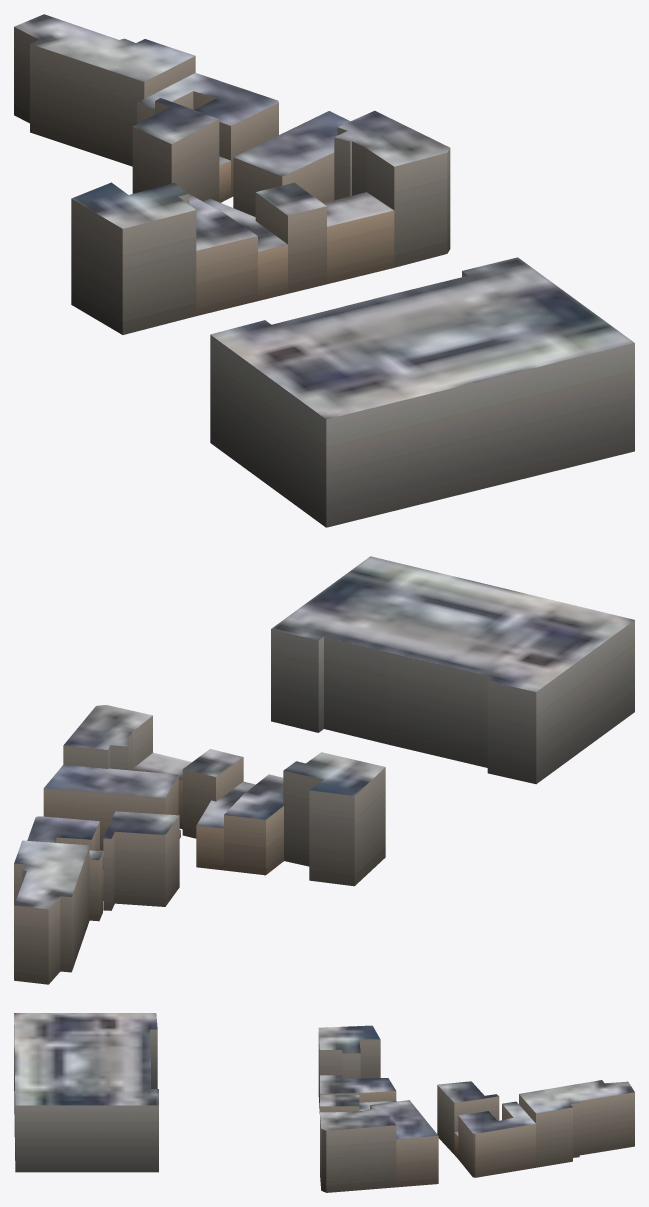
3 renders of one model, top to bottom at view 1: azimuth 30°, elevation 25°; view 2: azimuth 150°, elevation 25°; view 3: azimuth 270°, elevation 25°, orthographic. The views are drawn at different scales.
Bounding box in the file's own units: 81.09 × 22.16 × 188.
2 materials, 2 textured.
